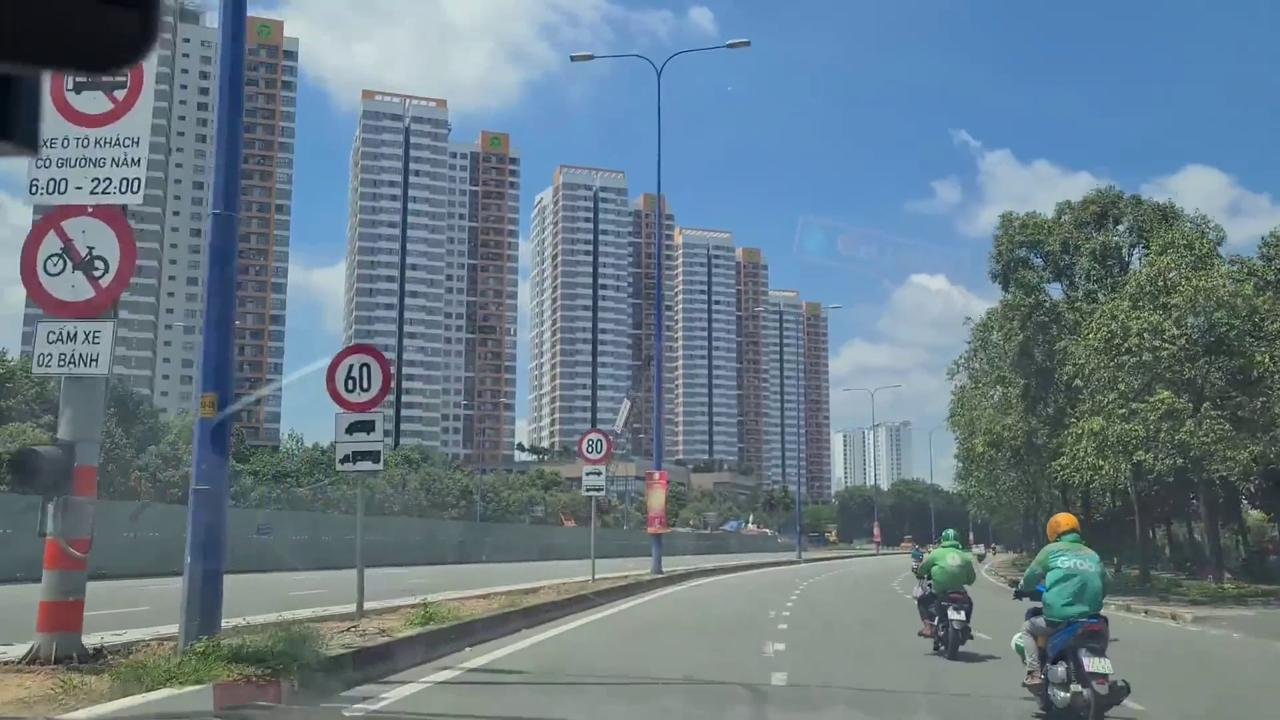Biển phụ: (28, 317, 116, 378), (331, 410, 385, 472), (581, 463, 606, 496)
Cấm cac phương tiện hoạt động trong khung giờ cố định: (28, 2, 157, 205)
Cấm xe máy: (19, 204, 138, 318)
GIơi hạn tốc độ 60Km/h: (324, 343, 393, 415)
Giới hạn tốc độ 80Km/h: (577, 427, 613, 465)
